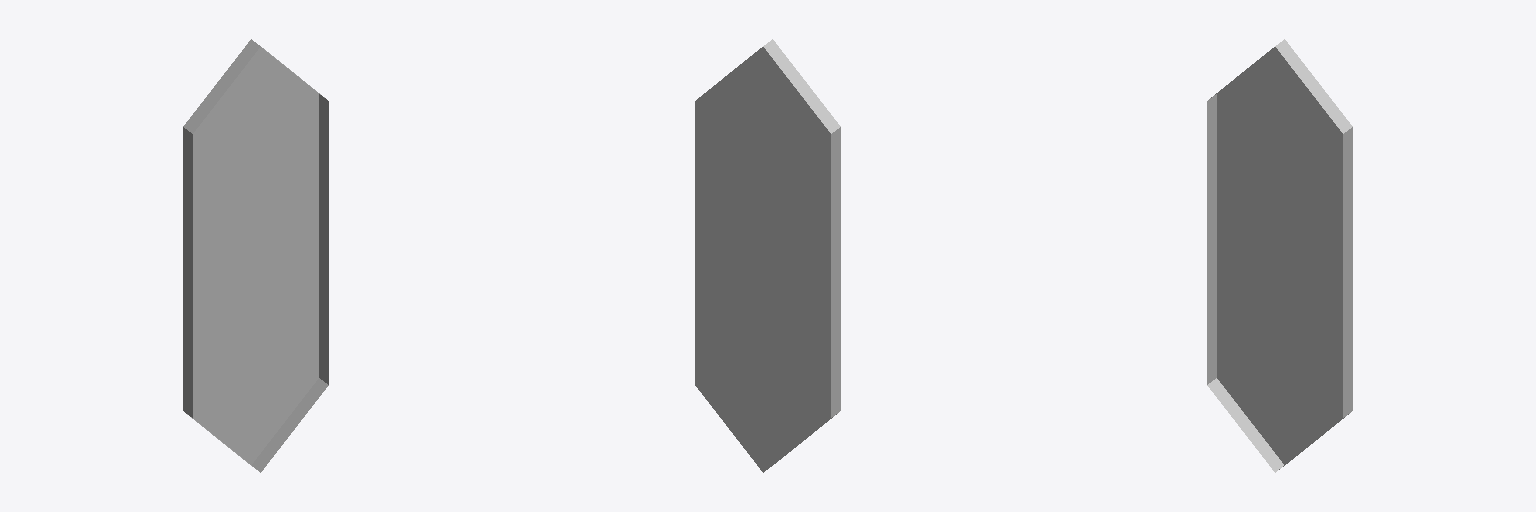
The model's file is verticalLED.obj.
3 views of the same model, side by side, from view 1: azimuth 30°, elevation 25°; view 2: azimuth 150°, elevation 25°; view 3: azimuth 330°, elevation 25° (orthographic).
Parts seen in each view (by area): view 1: Cube.000_Cube.001; view 2: Cube.000_Cube.001; view 3: Cube.000_Cube.001.
Part boxes in pixels (left/top/right/bottom): Cube.000_Cube.001: left=183, top=39, right=328, bottom=472; Cube.000_Cube.001: left=695, top=39, right=840, bottom=472; Cube.000_Cube.001: left=1207, top=39, right=1352, bottom=472.
Size of the model in its own units: 0.8 by 2.4 by 0.1.